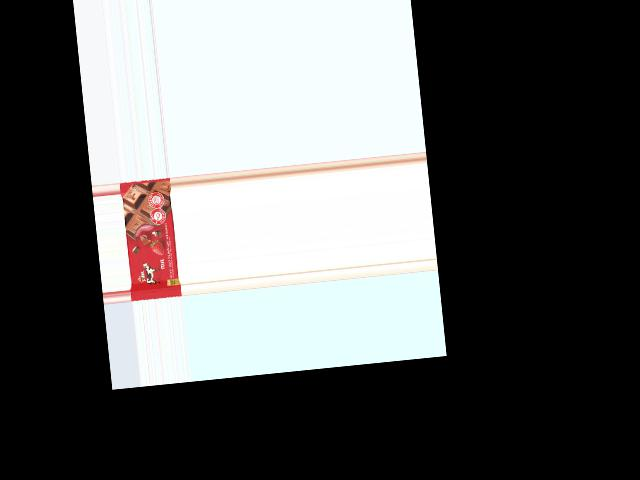chocolate: (119, 178, 182, 302)
